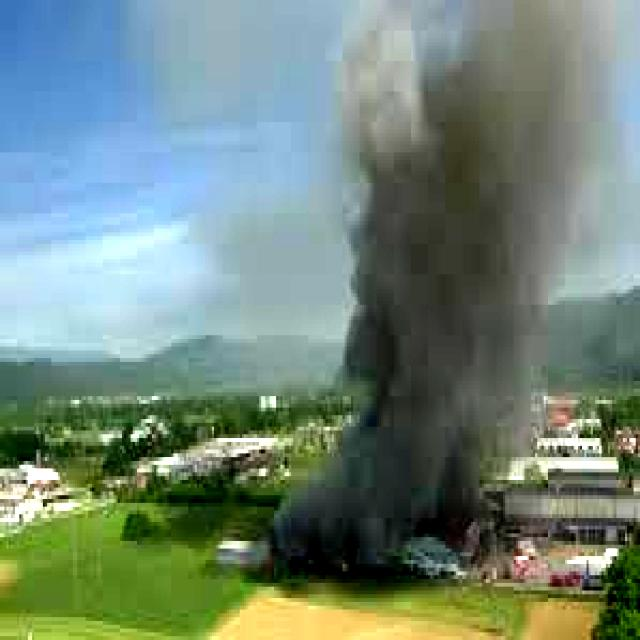no_helmet: (248, 0, 616, 587)
